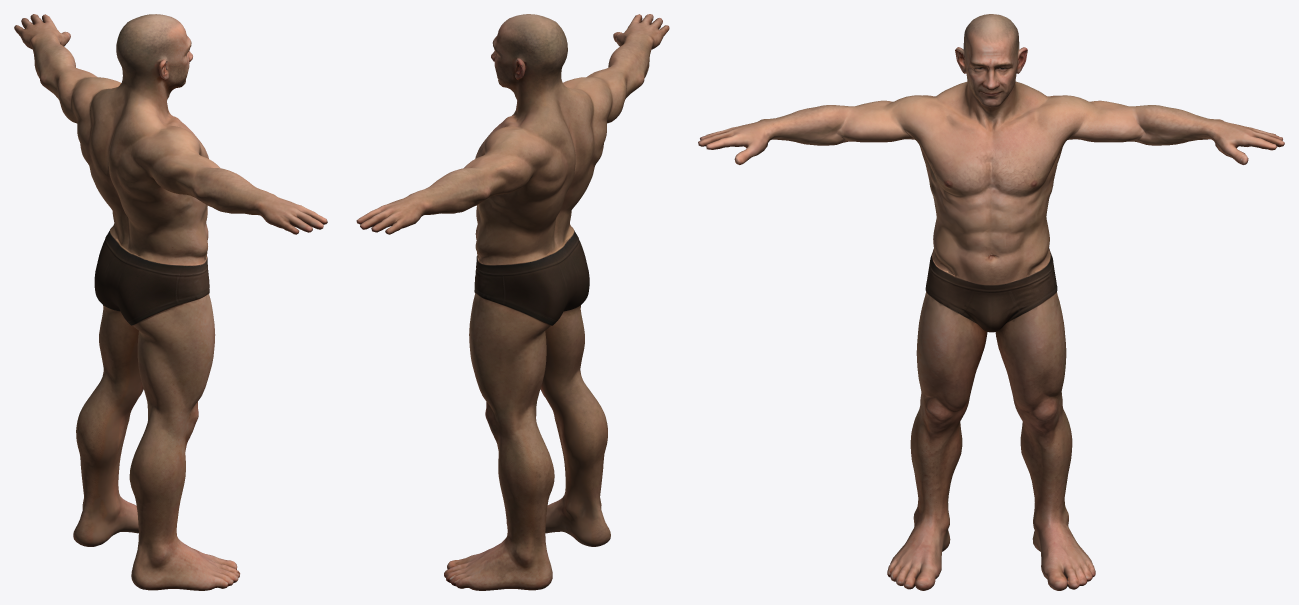
3 views of the same model, side by side, from view 1: azimuth 30°, elevation 25°; view 2: azimuth 150°, elevation 25°; view 3: azimuth 270°, elevation 25° (orthographic).
Parts seen in each view (by area): view 1: tripo_node_6764c4bb-8126-48f3-90e2-8cdf27410543; view 2: tripo_node_6764c4bb-8126-48f3-90e2-8cdf27410543; view 3: tripo_node_6764c4bb-8126-48f3-90e2-8cdf27410543.
Part boxes in pixels (left/top/right/bottom): tripo_node_6764c4bb-8126-48f3-90e2-8cdf27410543: left=14, top=14, right=327, bottom=590; tripo_node_6764c4bb-8126-48f3-90e2-8cdf27410543: left=356, top=14, right=669, bottom=590; tripo_node_6764c4bb-8126-48f3-90e2-8cdf27410543: left=698, top=14, right=1284, bottom=590.
Bounding box in the file's own units: 0.1907 × 0.9803 × 0.9456.
Materials: 1 (1 with a texture image).
